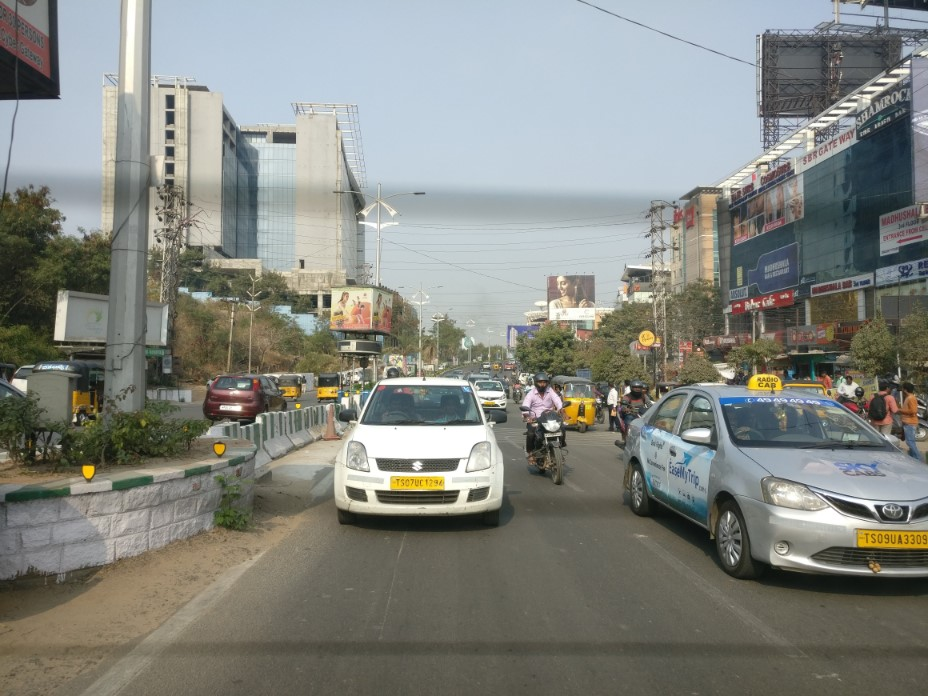swift desire: (334, 367, 509, 530)
